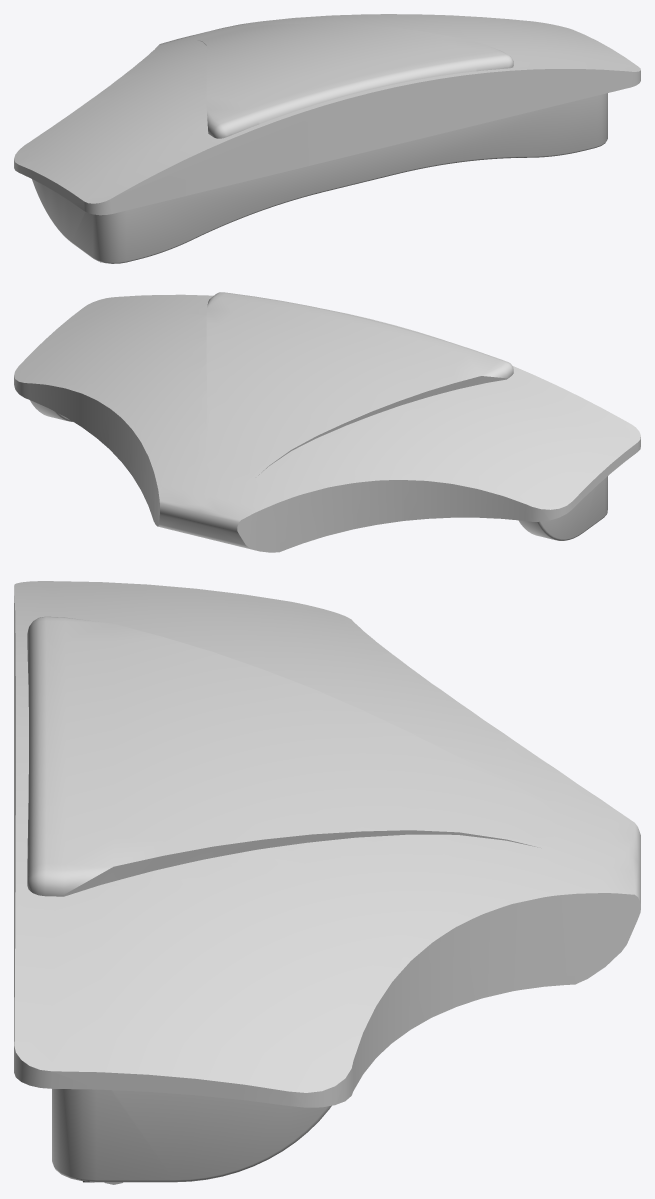
Rendered from Zerocar.dae.
The picture shows the model from 3 angles, top to bottom: view 1: azimuth 30°, elevation 25°; view 2: azimuth 150°, elevation 25°; view 3: azimuth 270°, elevation 25°; orthographic projection. The views are drawn at different scales.
Parts seen in each view (by area): view 1: SketchUp; view 2: SketchUp; view 3: SketchUp.
Part boxes in pixels (x1,y1,x2,y2): SketchUp: (14, 14, 640, 263); SketchUp: (14, 292, 640, 552); SketchUp: (14, 581, 640, 1182).
Bounding box in the file's own units: 102 × 55.31 × 23.21.
4 materials, 1 textured.
